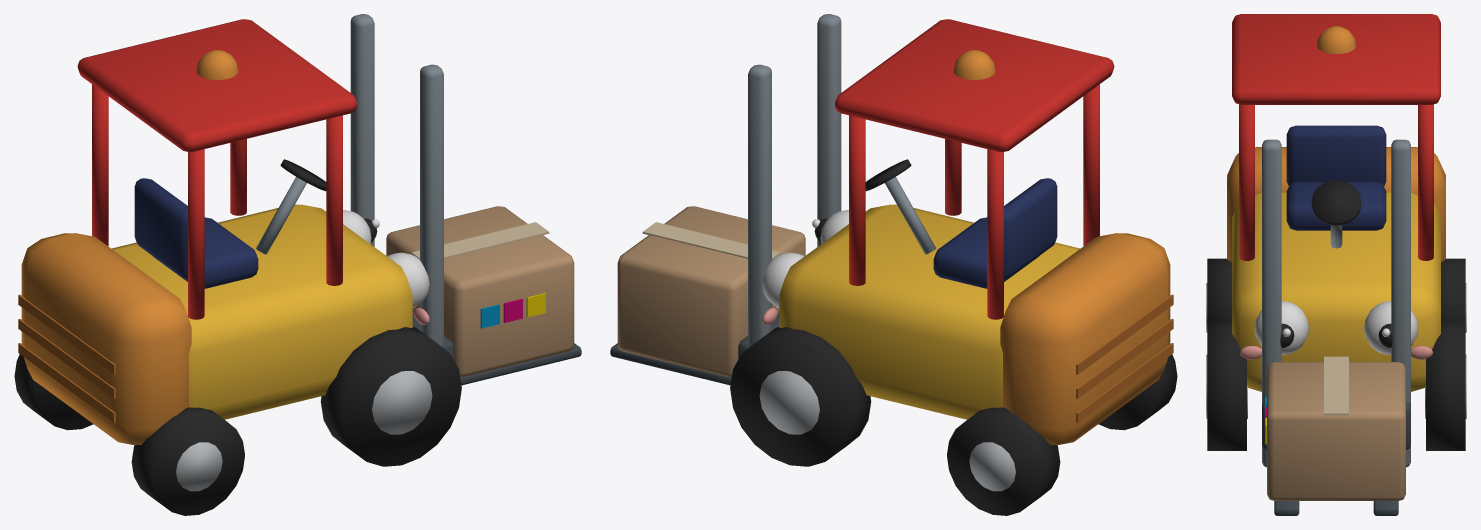
File: forklift.glb
3 views of the same model, side by side, from view 1: azimuth 30°, elevation 25°; view 2: azimuth 150°, elevation 25°; view 3: azimuth 270°, elevation 25° (orthographic). The views are drawn at different scales.
Visible parts, largest first — view 1: forklift; view 2: forklift; view 3: forklift.
Boxes of the visible parts, x1,y1,x2,y2 form: forklift: (14, 14, 581, 515); forklift: (610, 14, 1177, 515); forklift: (1206, 14, 1466, 515).
Bounding box in the file's own units: 1.05 × 0.81 × 0.524.
